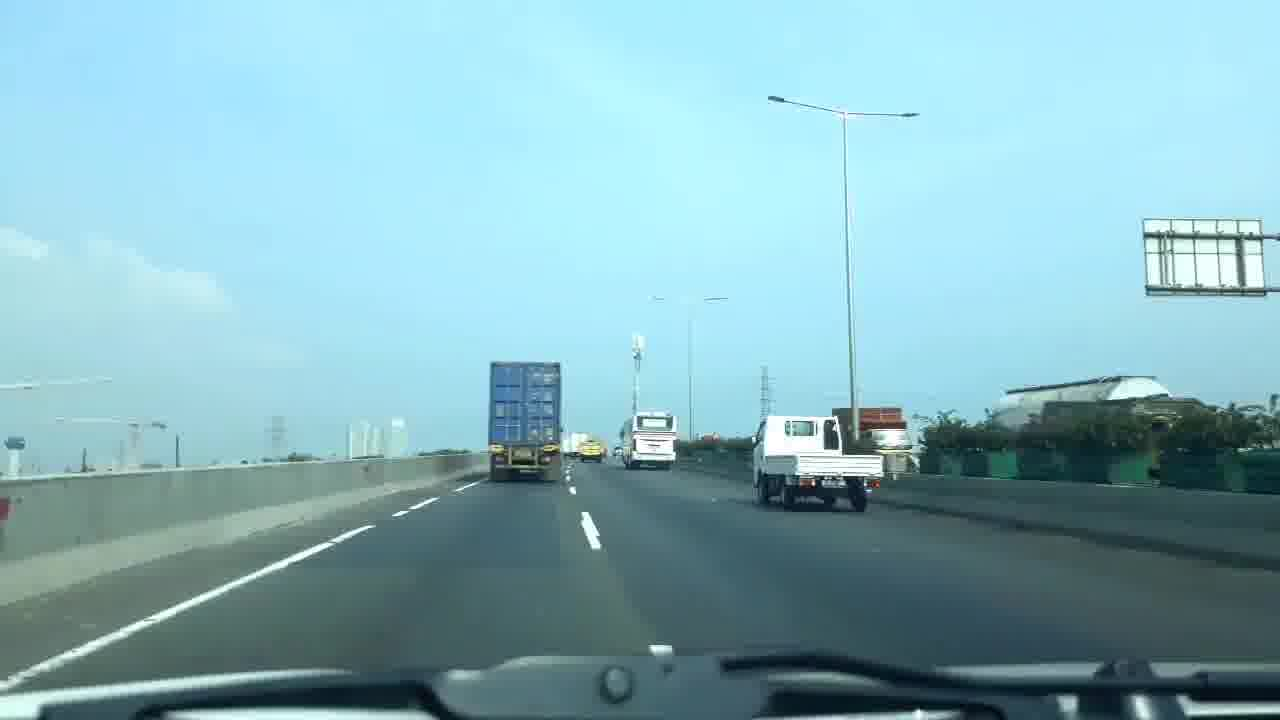plate_positive: (821, 479, 848, 487), (513, 450, 533, 457)
